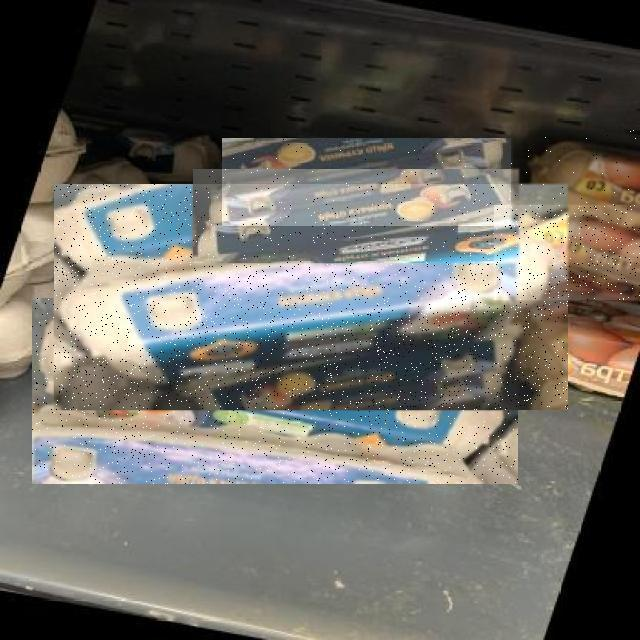Eggs: (54, 184, 568, 410), (33, 298, 519, 484), (193, 169, 519, 263), (222, 139, 512, 227), (494, 205, 640, 300), (511, 130, 640, 236)
